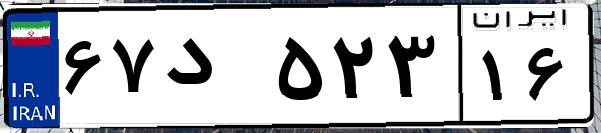1: (475, 38, 525, 113)
2: (330, 28, 385, 110)
3: (385, 28, 445, 110)
5: (270, 28, 330, 110)
6: (57, 26, 110, 100), (525, 38, 570, 115)
7: (110, 28, 158, 98)
د: (158, 20, 270, 120)
